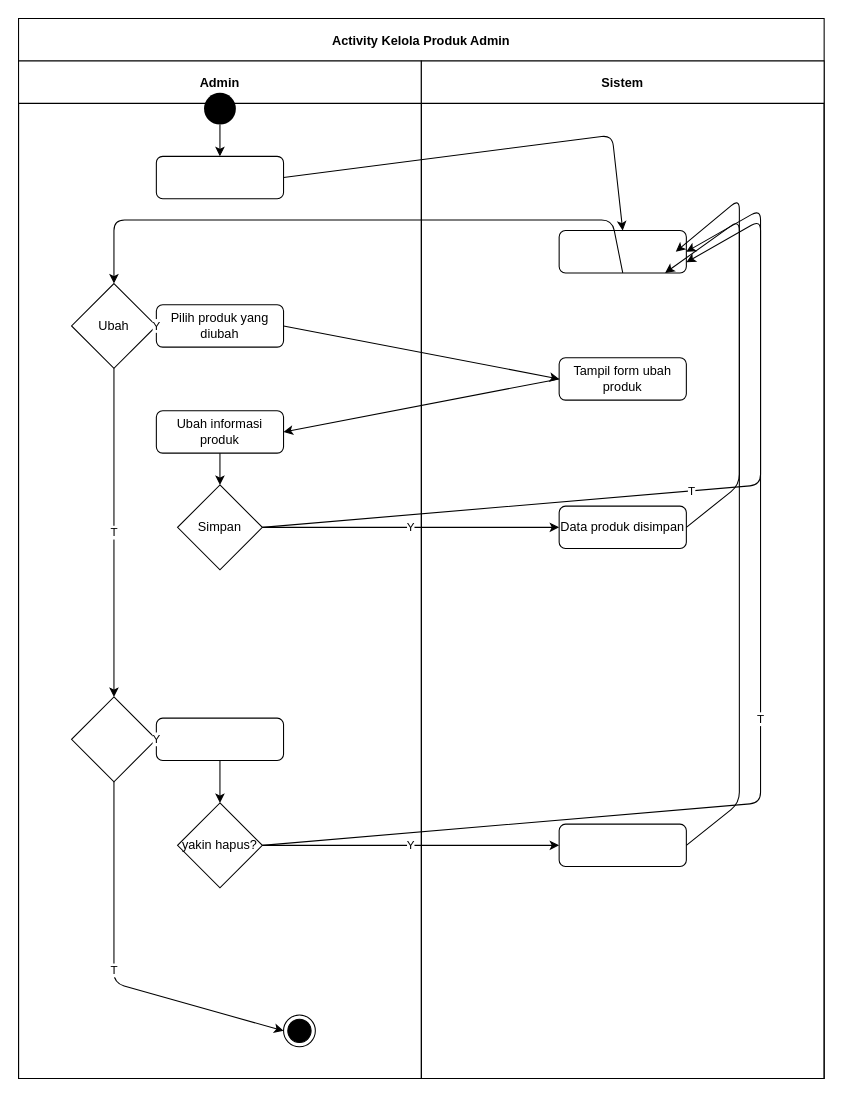
This 843x1097 diagram has some shape labels left out. Here are the shapes that lost their labels. From the top down, the centre of each, then its label:
At point (219, 177): "Pilih menu data produk".
At point (622, 251): "Tampil daftar semua produk".
At point (113, 739): "Hapus".
At point (219, 739): "Pilih produk yang dihapus".
At point (622, 845): "Data produk dihapus".
